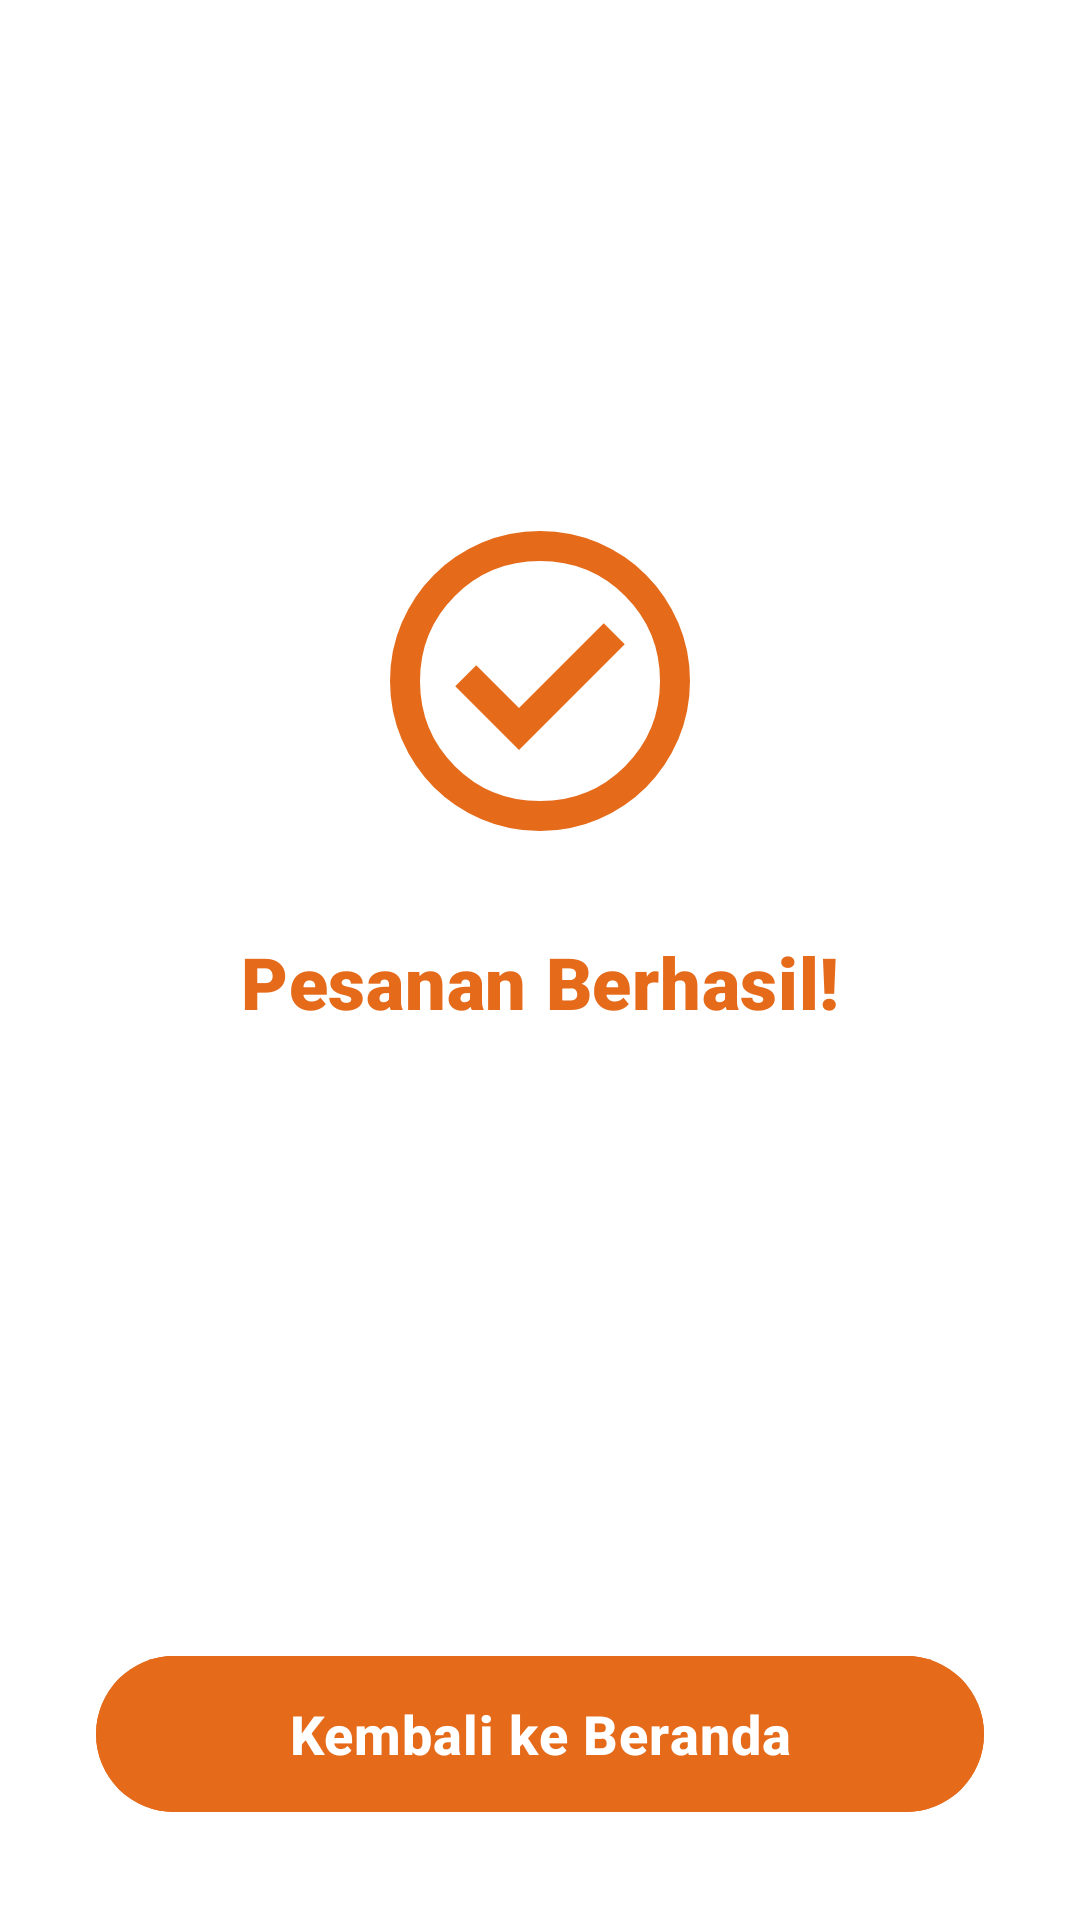

Locate icon controls on the screen. Image size 1080 x 1920, boxes as (x1, y1, x2, y2).
succes: (390, 531, 690, 831)
